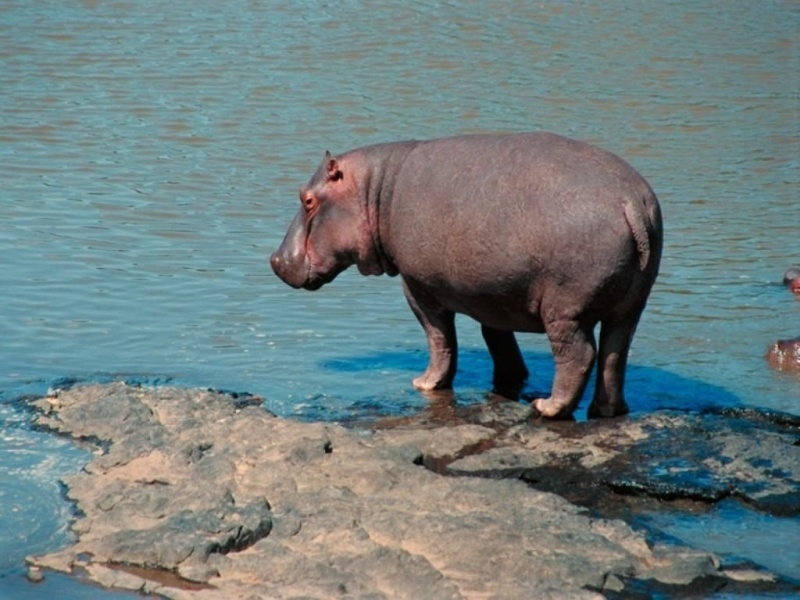hipopotamo: (265, 127, 670, 428)
